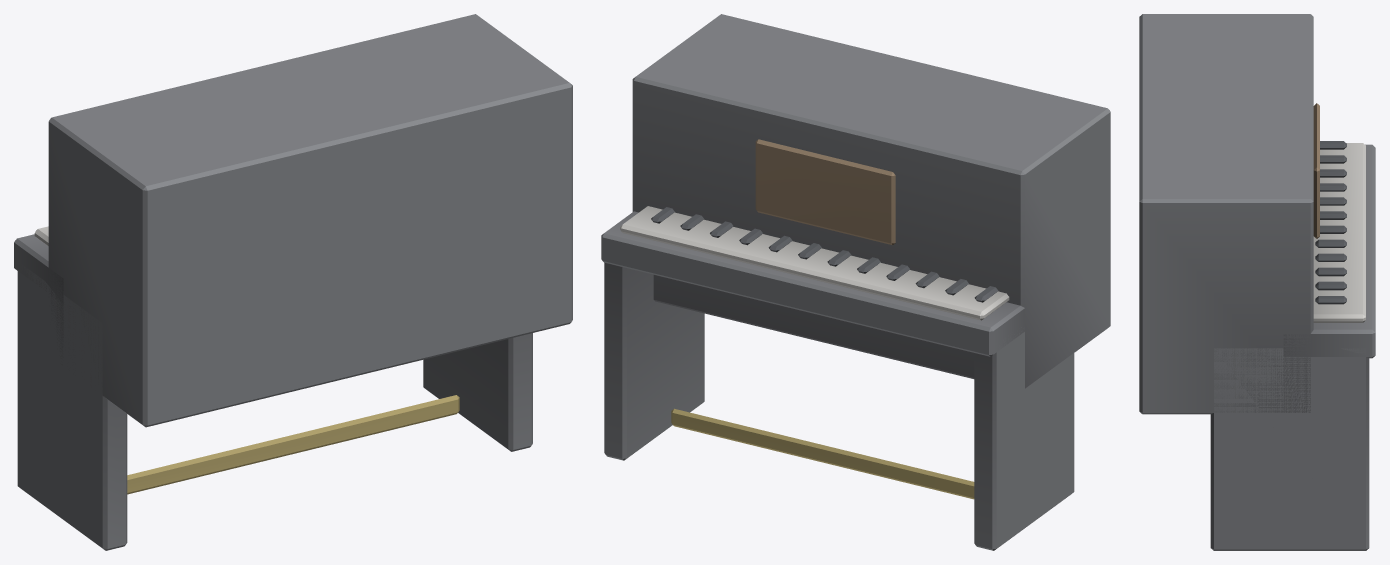
Rendered from furn_piano__black.glb.
The picture shows the model from 3 angles, left to right: view 1: azimuth 30°, elevation 25°; view 2: azimuth 150°, elevation 25°; view 3: azimuth 270°, elevation 25°; orthographic projection. The views are drawn at different scales.
Size of the model in its own units: 1.4 by 1.22 by 0.745.
